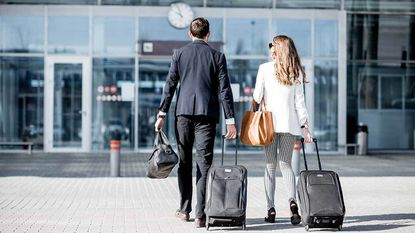luggage: (178, 132, 279, 233), (271, 135, 369, 233)
shoulder bag: (230, 96, 286, 152), (131, 127, 185, 181)
